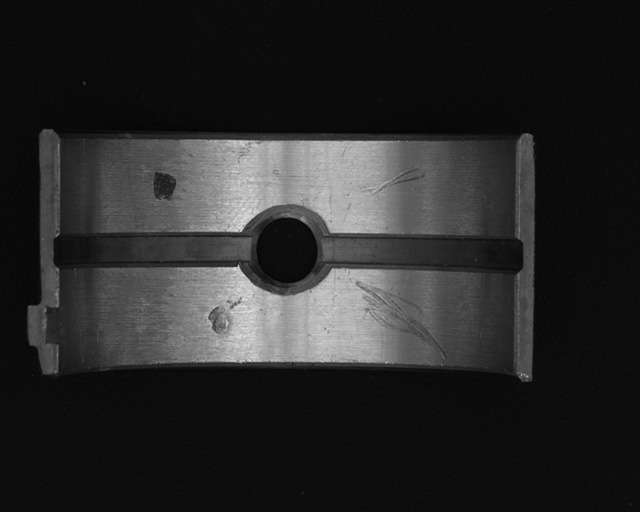blot: (153, 170, 177, 201)
bruise: (208, 297, 242, 335)
gap: (320, 232, 525, 275), (55, 232, 252, 267)
hole: (241, 207, 328, 295)
nick: (354, 280, 448, 358), (362, 166, 425, 198)
